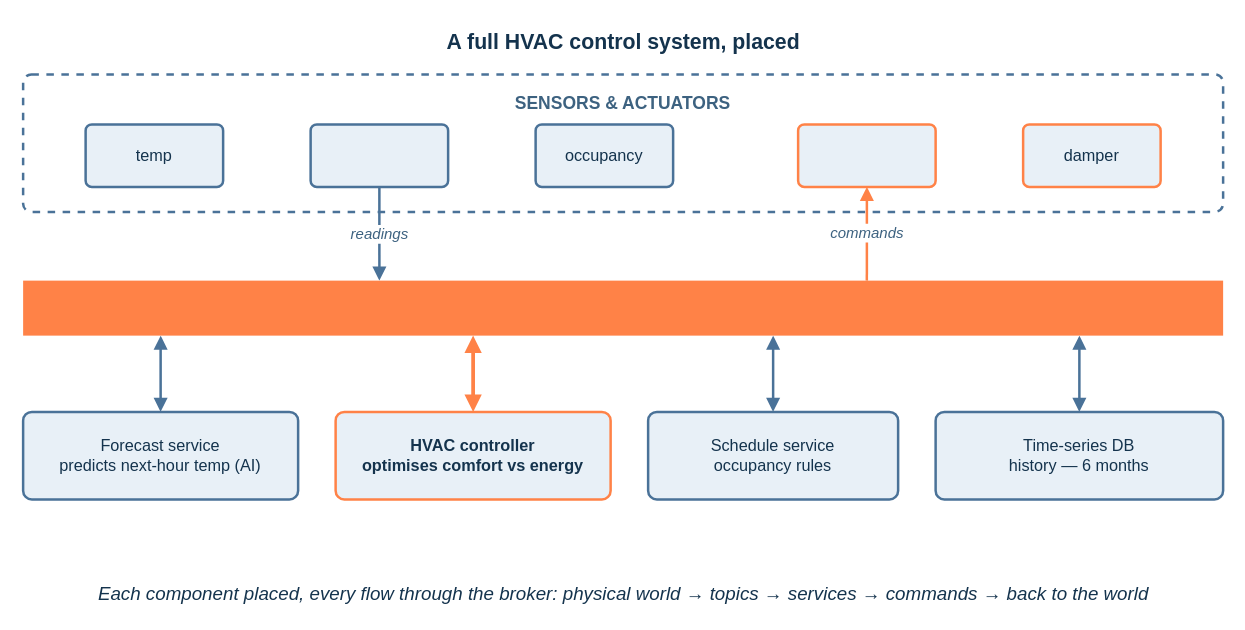
The diagram is 1245 pixels wide and 630 high, and some of its shapes have lost their labels. Each missing label, with the centre of its shape:
CO₂: [379,155]
fan: [866,155]
MQTT BROKER — topics sensors/* and actuators/*: [622,307]
